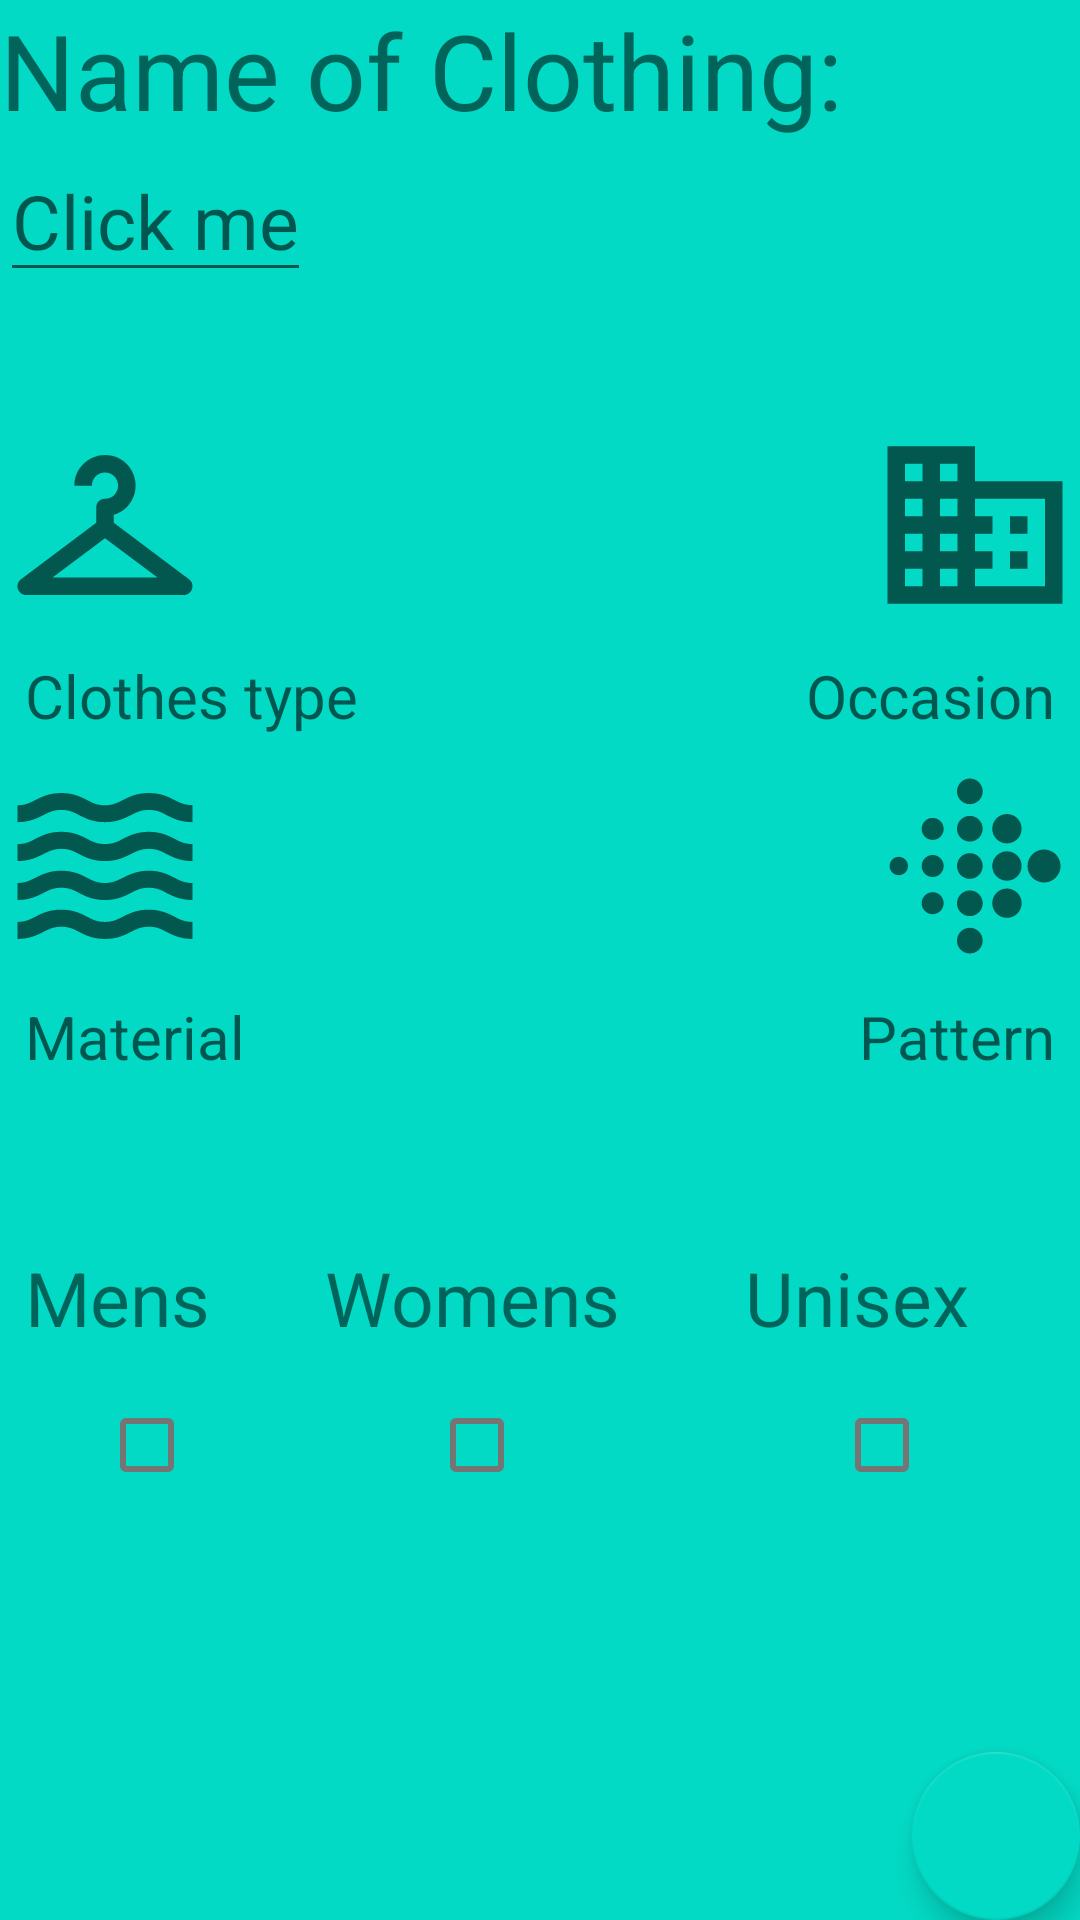

Icons on this 1080x1920 Android screen, each with its box as (x1, y1, x2, y2):
business: (887, 446, 1063, 604)
